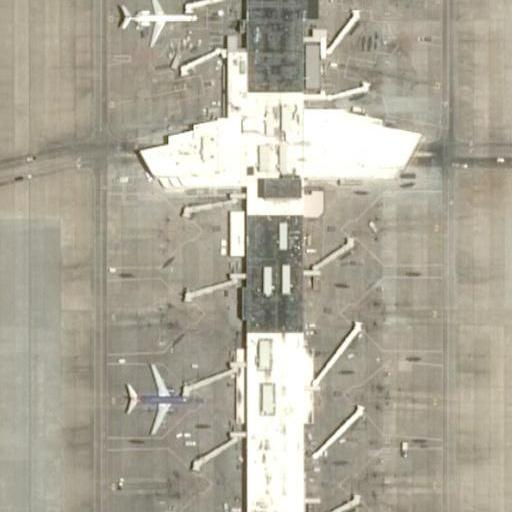Aircraft: (119, 369, 197, 436), (113, 0, 199, 45)
